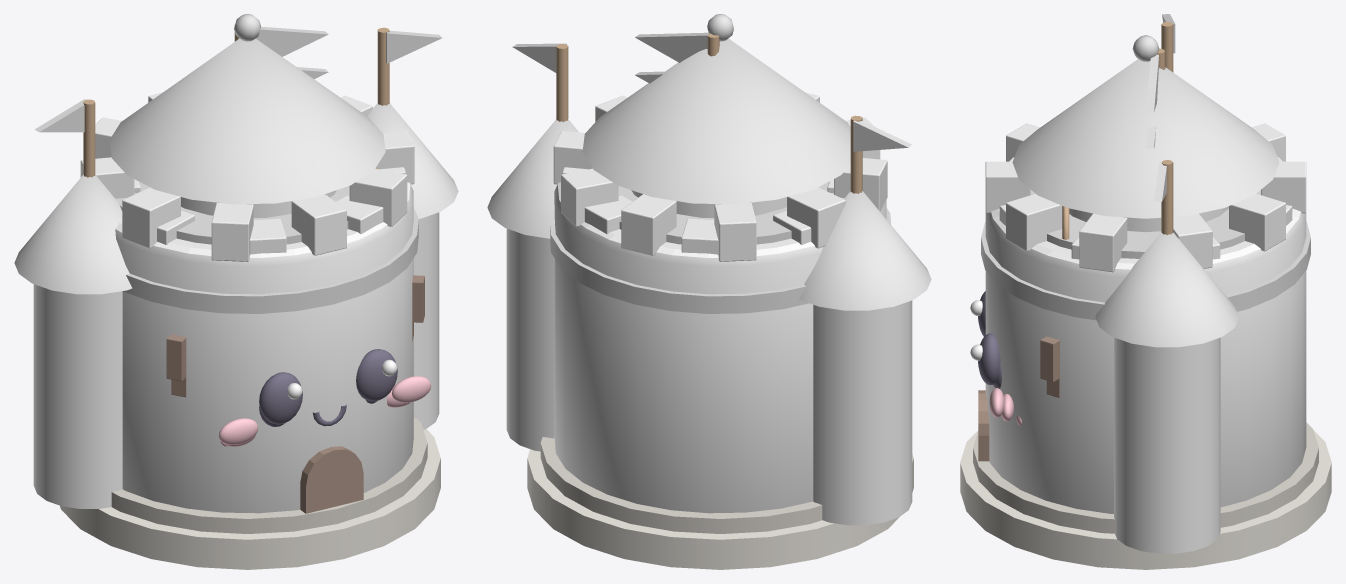
The model's file is kule.glb.
3 views of the same model, side by side, from view 1: azimuth 30°, elevation 25°; view 2: azimuth 150°, elevation 25°; view 3: azimuth 270°, elevation 25° (orthographic). The views are drawn at different scales.
Parts seen in each view (by area): view 1: castle_l3, archer, castle_l2; view 2: castle_l3, archer, castle_l2; view 3: castle_l3, archer, castle_l2.
Boxes of the visible parts, x1,y1,x2,y2 form: castle_l3: [14, 25, 458, 569]; archer: [109, 14, 385, 217]; castle_l2: [112, 67, 427, 531]; castle_l3: [487, 32, 931, 569]; archer: [582, 14, 850, 217]; castle_l2: [540, 71, 833, 532]; castle_l3: [960, 14, 1331, 569]; archer: [1012, 35, 1279, 239]; castle_l2: [973, 126, 1317, 528].
Bounding box in the file's own units: 1.76 × 1.89 × 1.39.
